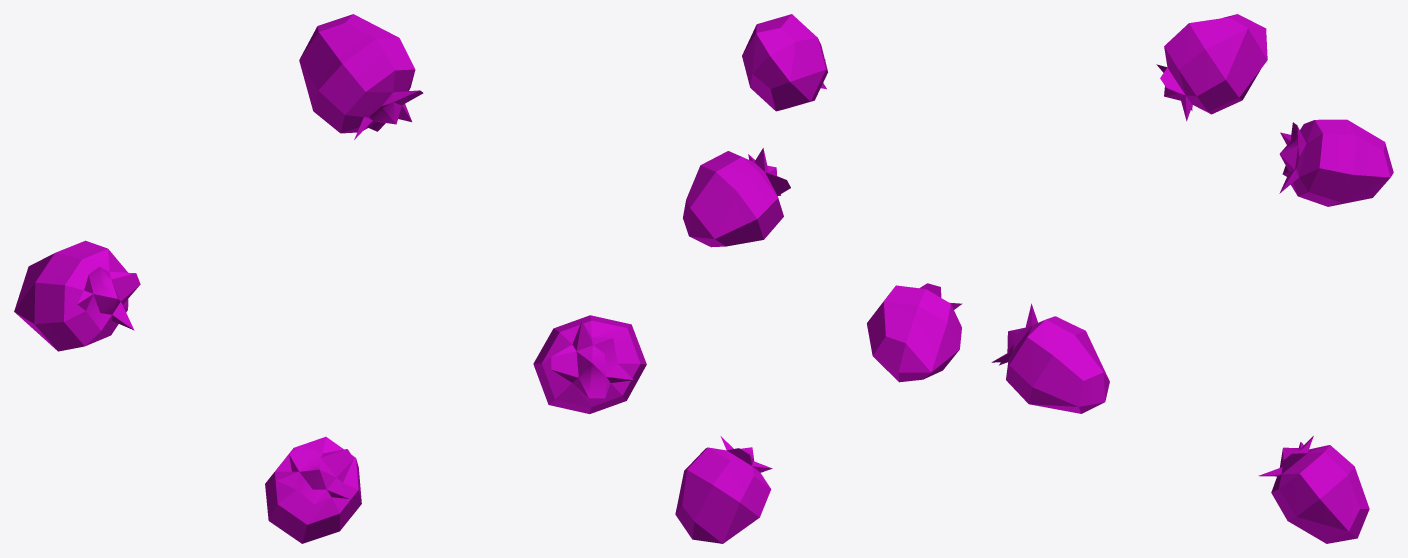
File: Strawberry.fbx
3 views of the same model, side by side, from view 1: azimuth 30°, elevation 25°; view 2: azimuth 150°, elevation 25°; view 3: azimuth 270°, elevation 25° (orthographic). The views are drawn at different scales.
Visible parts, largest first — view 1: Strawberry; view 2: Strawberry; view 3: Strawberry.
Boxes of the visible parts, box(x1,y1,x2,y2) form: Strawberry: box(14, 14, 646, 543); Strawberry: box(675, 14, 962, 543); Strawberry: box(991, 14, 1393, 543).
Size of the model in its own units: 36.44 by 42.66 by 30.44.
